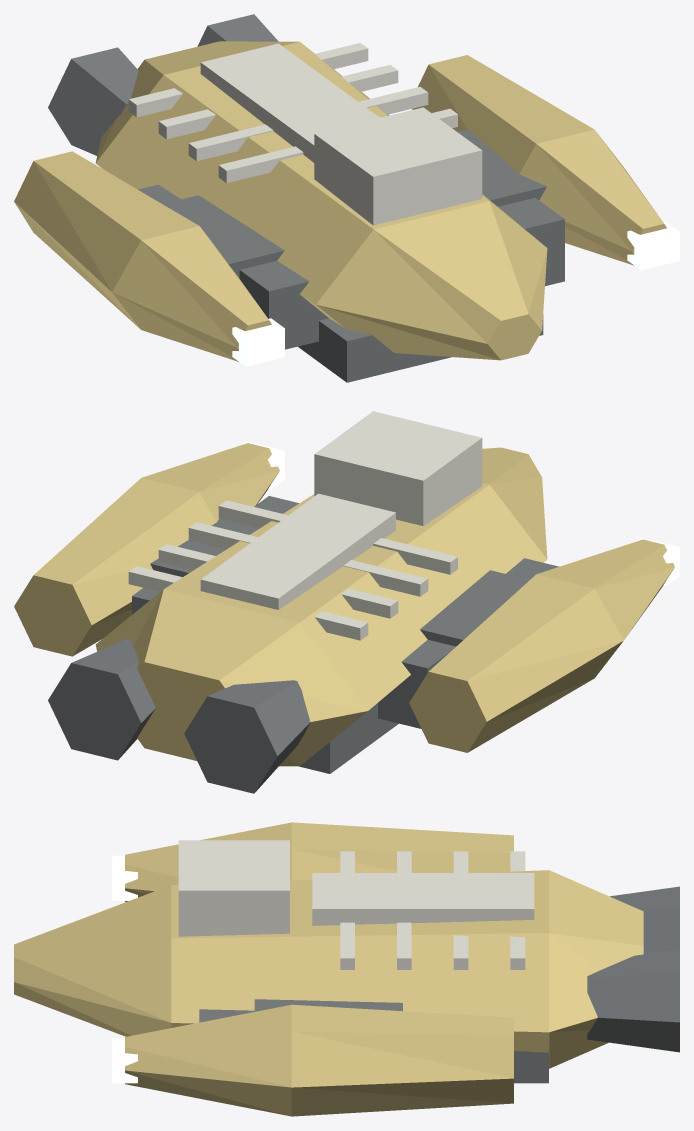
3 renders of one model, top to bottom at view 1: azimuth 30°, elevation 25°; view 2: azimuth 150°, elevation 25°; view 3: azimuth 270°, elevation 25°, orthographic. The views are drawn at different scales.
Bounding box in the file's own units: 5.73 × 1.95 × 6.83.
